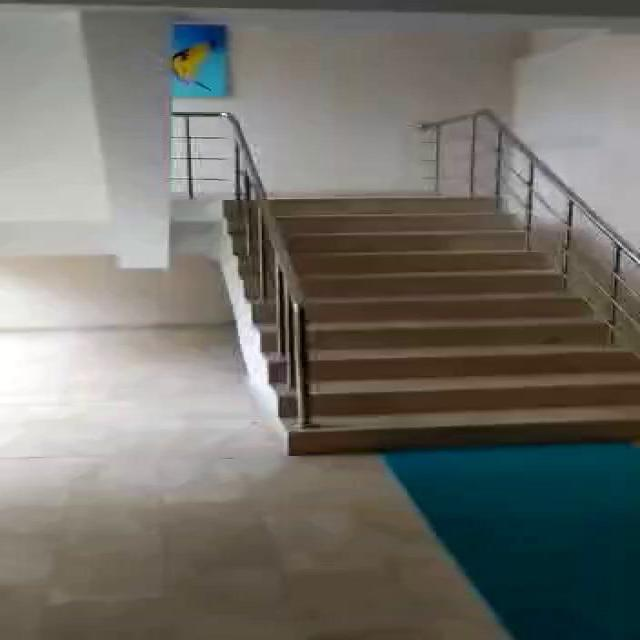stair: (210, 197, 640, 458)
